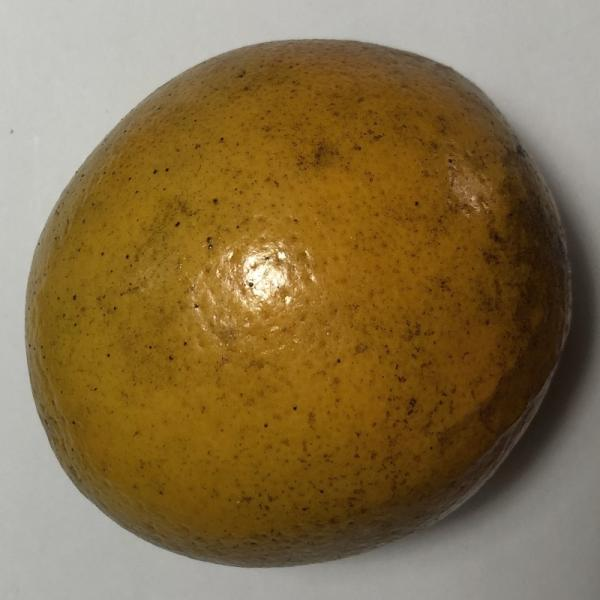Machas negras: (14, 18, 575, 574)
